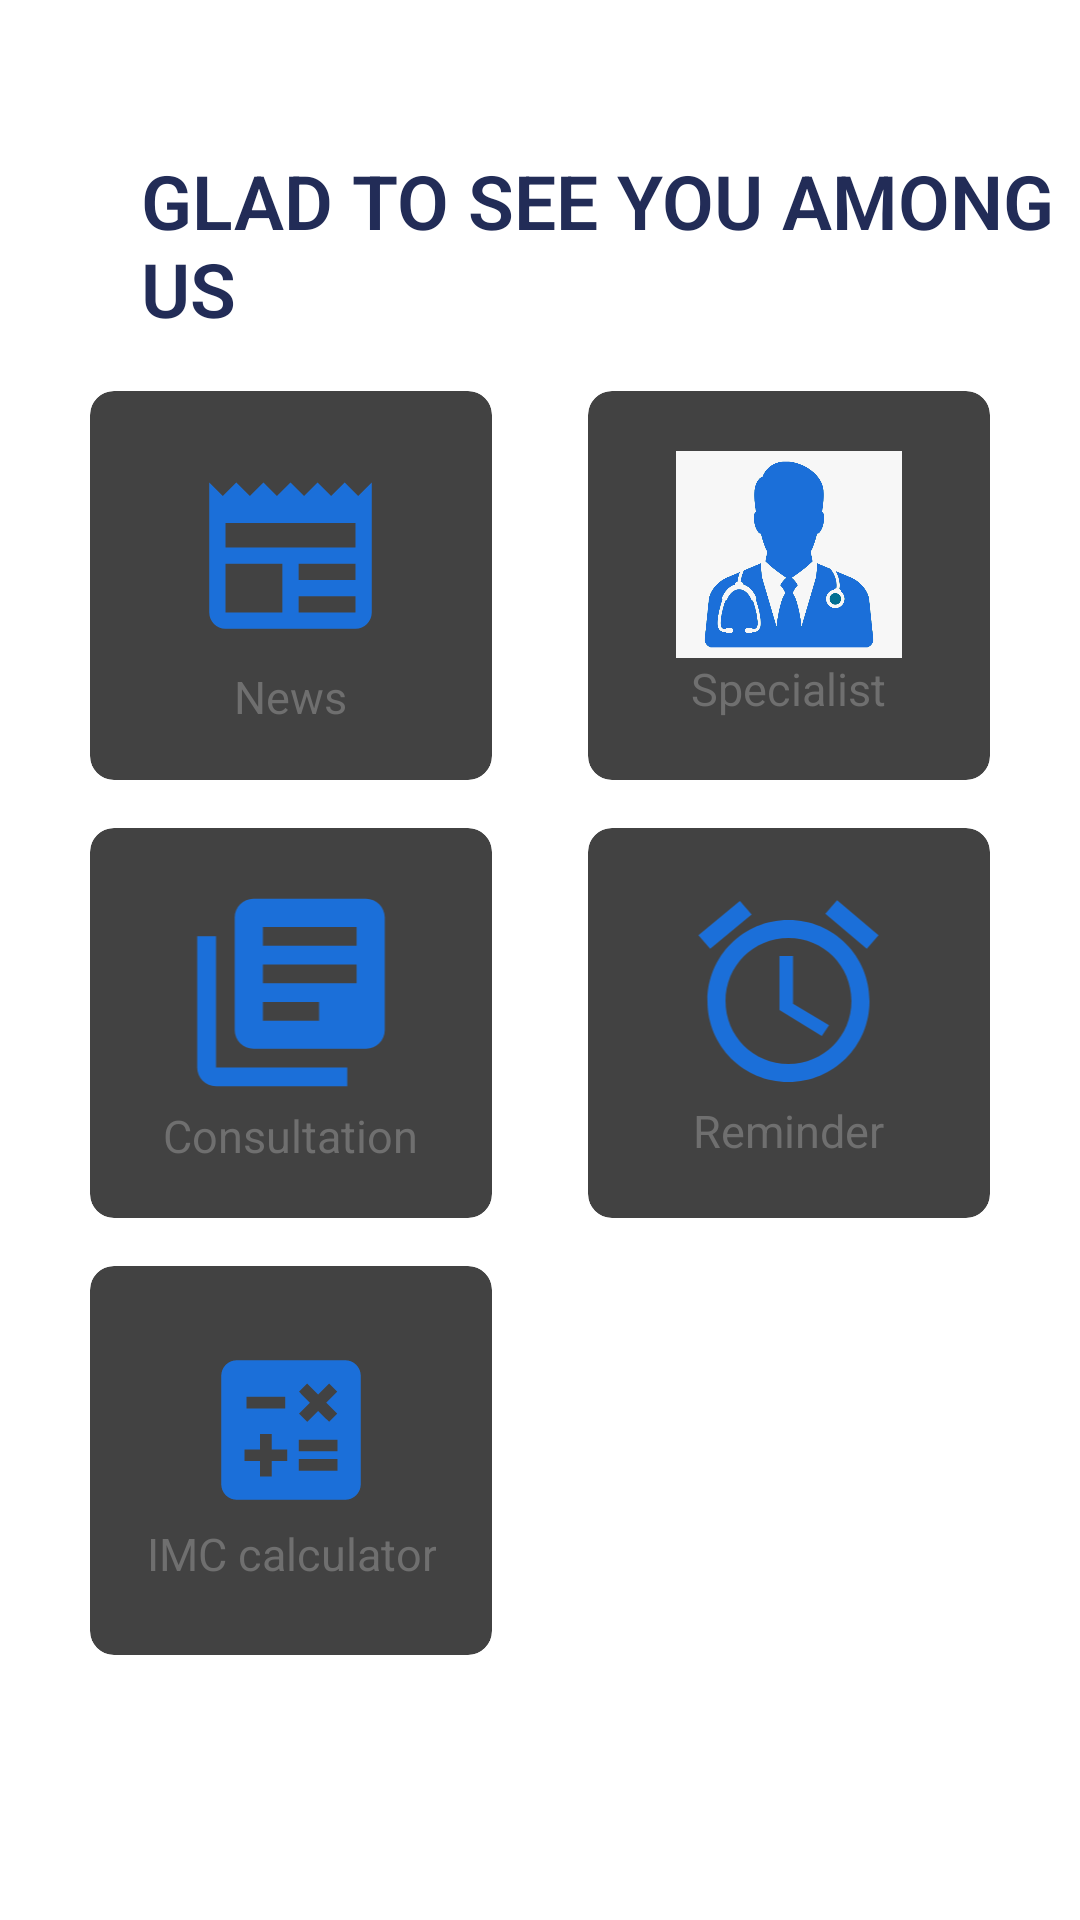

Point at icon controls on the screen. Image size 1080 x 1920, points as (x=x, y=y).
access alarms: (x=788, y=991)
calculate: (x=291, y=1430)
doc: (x=789, y=554)
